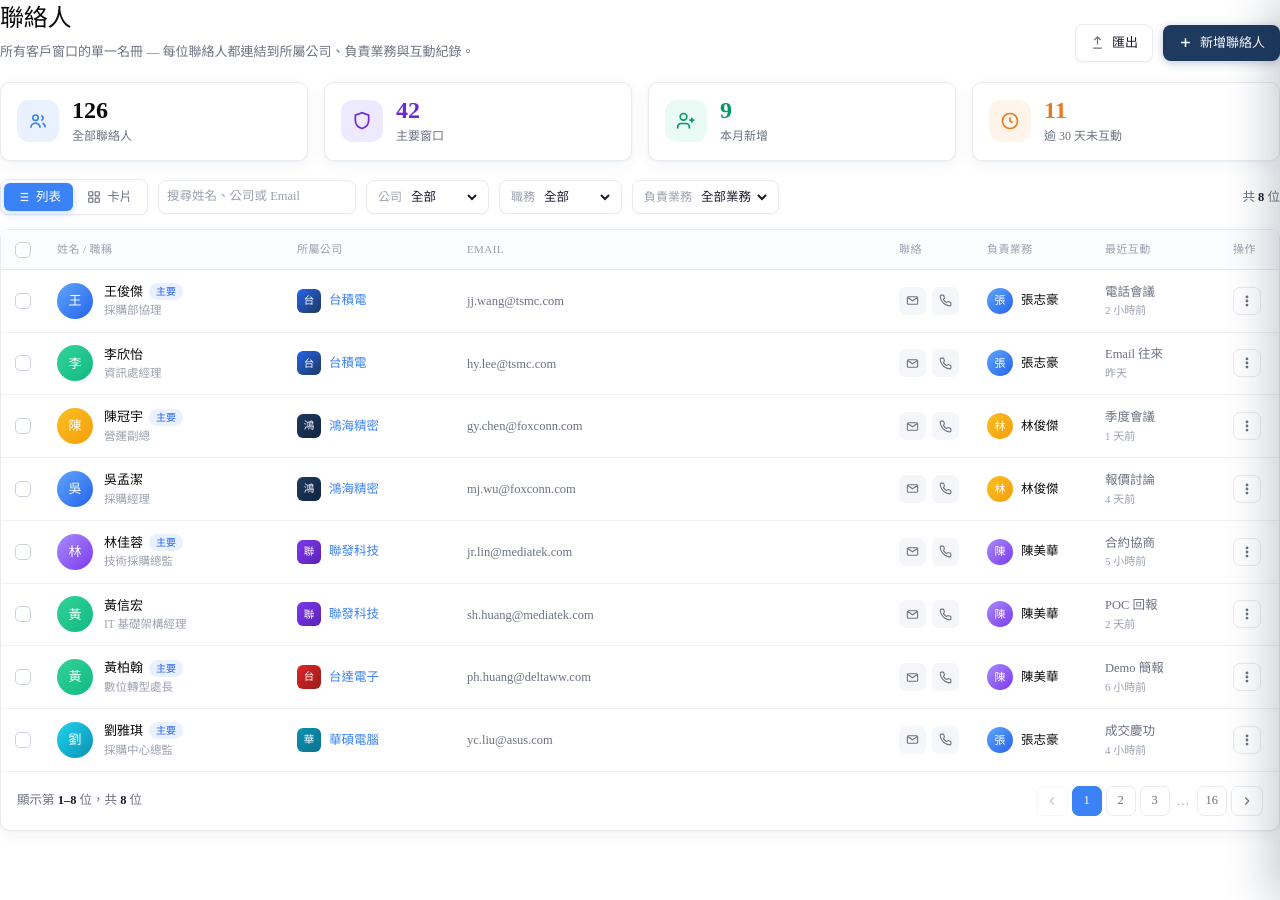
Test: Contacts 刪除 › 點刪除並確認後，該列消失且計數 -1
Click the text "陳冠宇": [640, 426] box [1,395,1279,458]
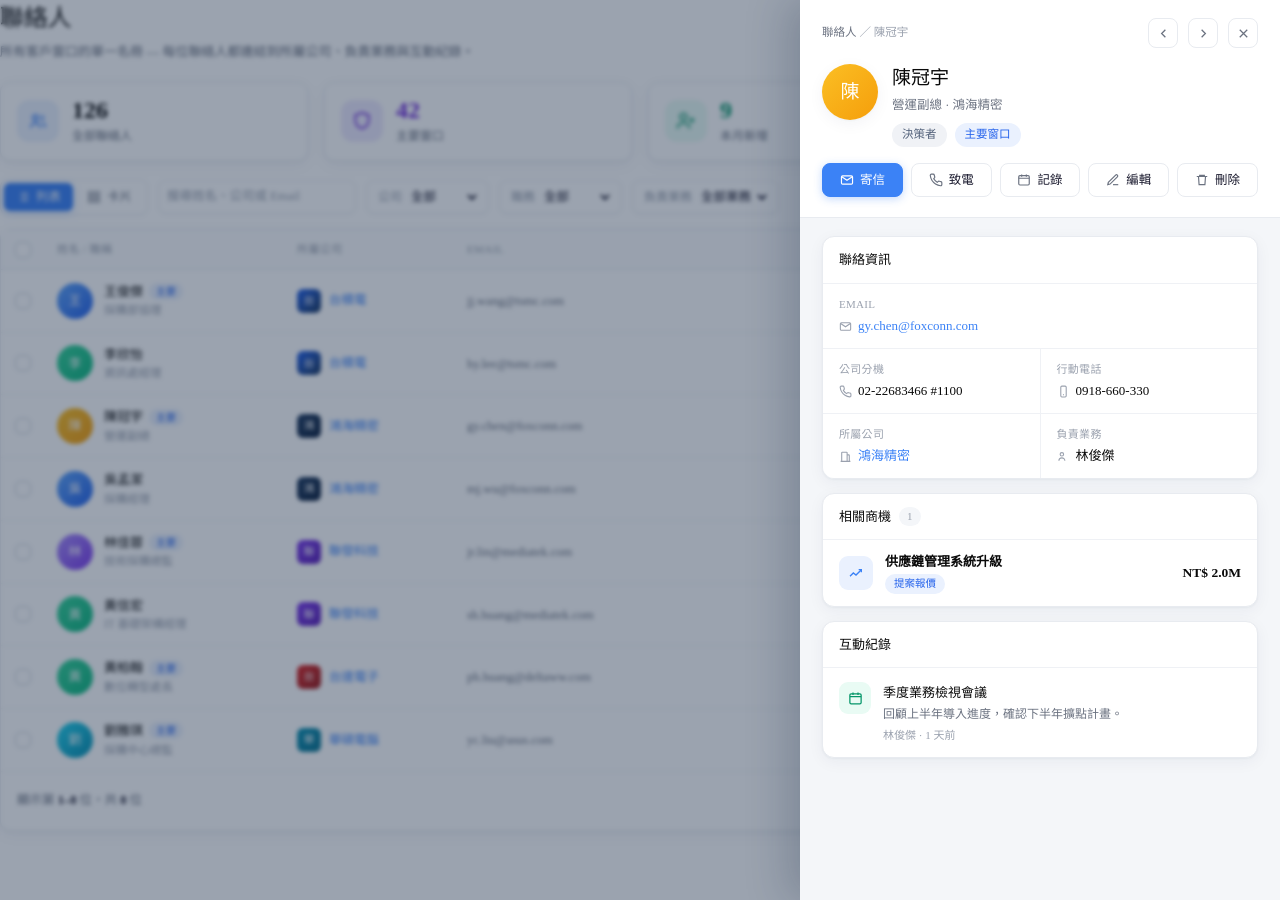
Click the button with aria-label "刪除聯絡人": [1218, 180] box [1177,162,1258,197]
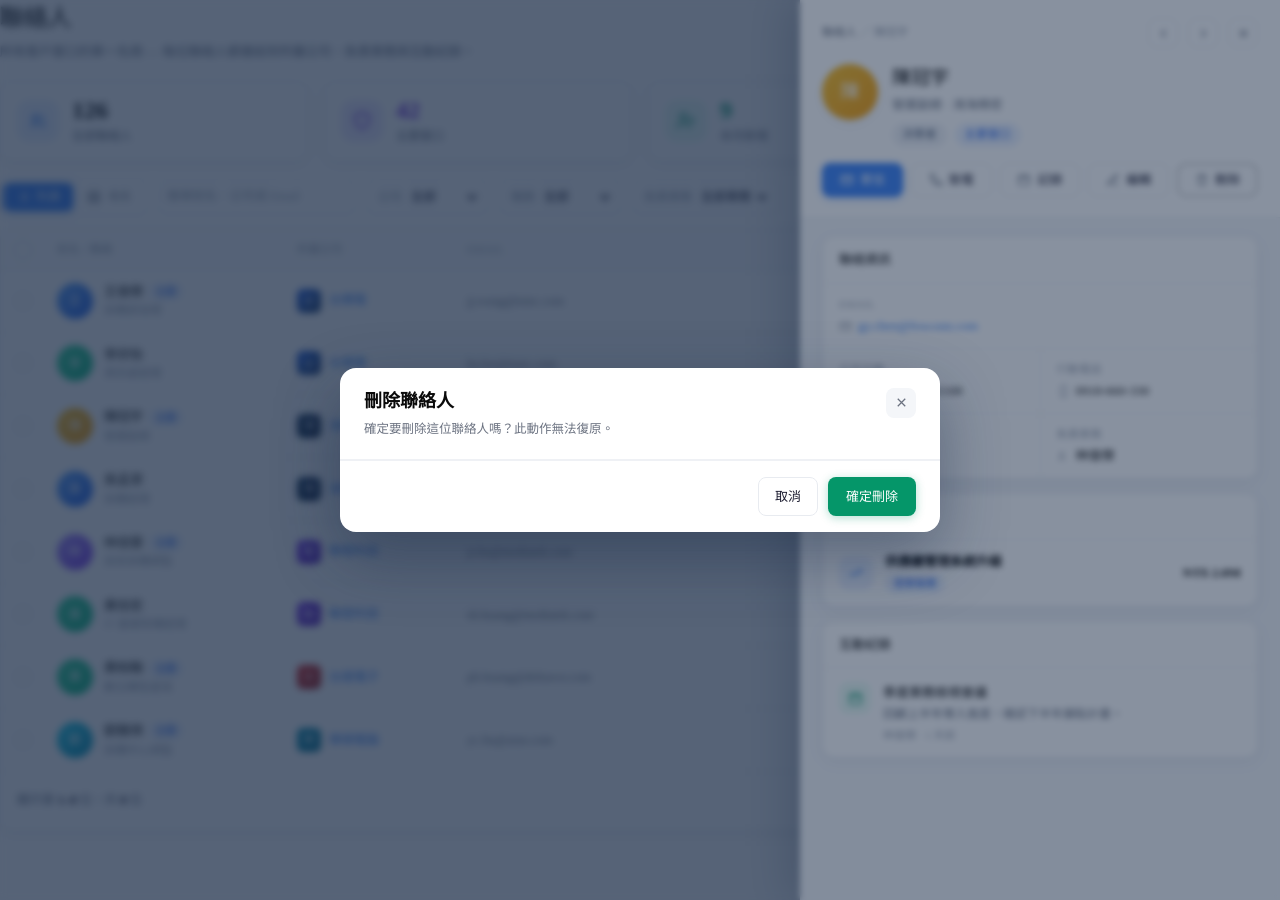
Click the button "確定刪除": [872, 496] box [828,477,916,516]
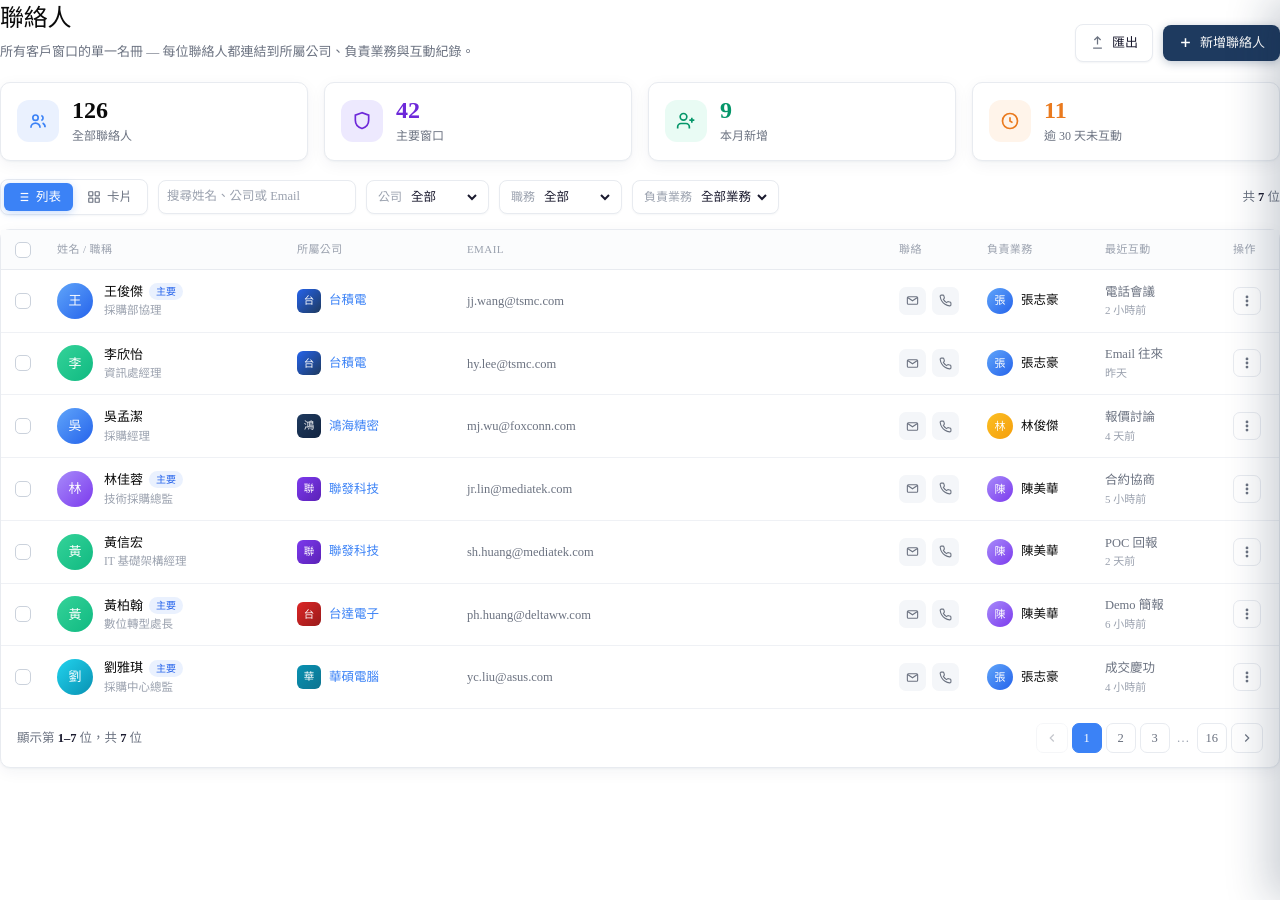
expect the text "陳冠宇" is gone: met
